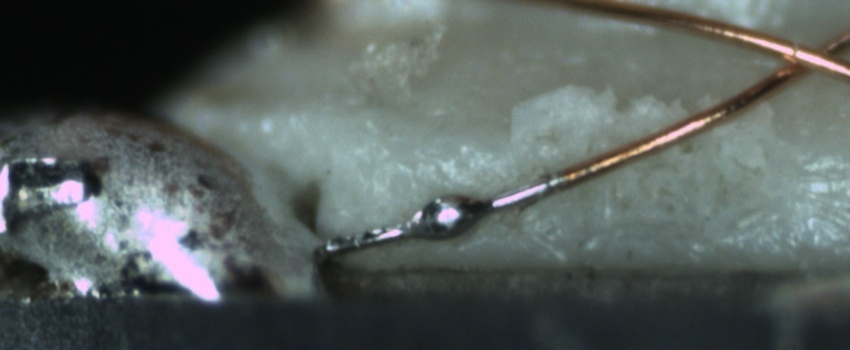CL: (755, 26, 846, 88)
TB: (413, 187, 483, 243)
TS: (323, 174, 565, 254)
TTCW: (312, 152, 612, 261)
